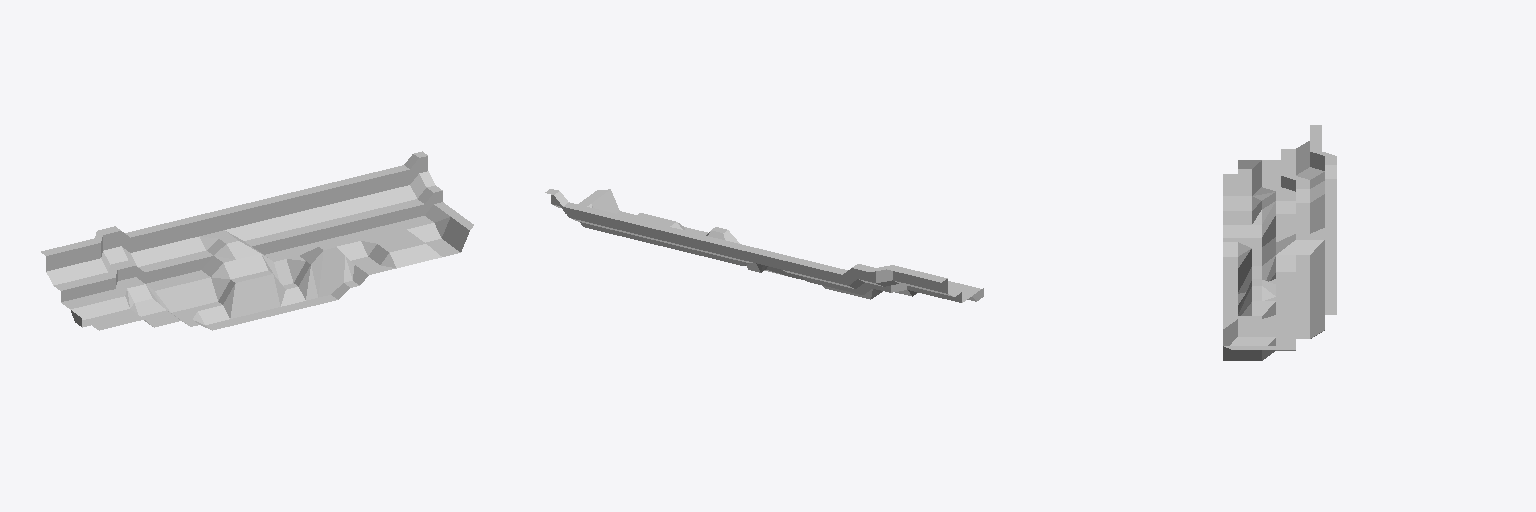
File: mMountainBackSide.obj
3 renders of one model, left to right at view 1: azimuth 30°, elevation 25°; view 2: azimuth 150°, elevation 25°; view 3: azimuth 270°, elevation 25°, orthographic.
Parts seen in each view (by area): view 1: mMountainRight3; view 2: mMountainRight3; view 3: mMountainRight3.
Part boxes in pixels (bbox=[...]): mMountainRight3: bbox=[41, 151, 473, 330]; mMountainRight3: bbox=[545, 189, 983, 302]; mMountainRight3: bbox=[1223, 125, 1336, 360].
Bounding box in the file's own units: 92.88 × 16.51 × 23.5.